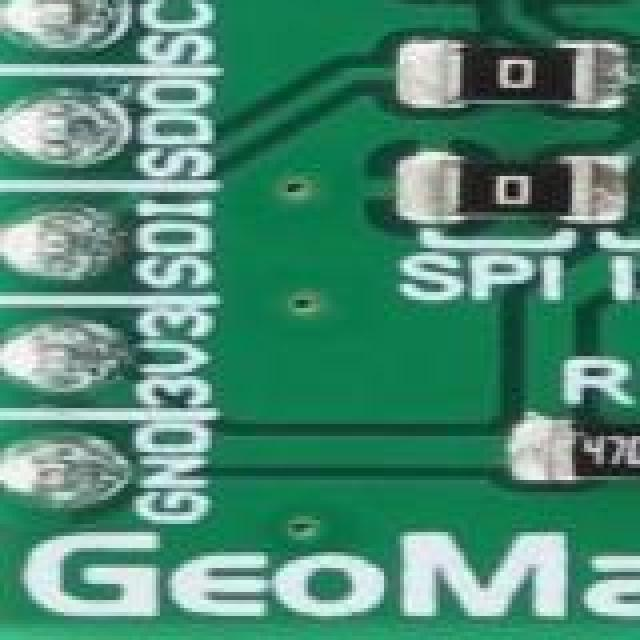resistor: (444, 164, 598, 222), (444, 52, 606, 106), (540, 420, 640, 480)
